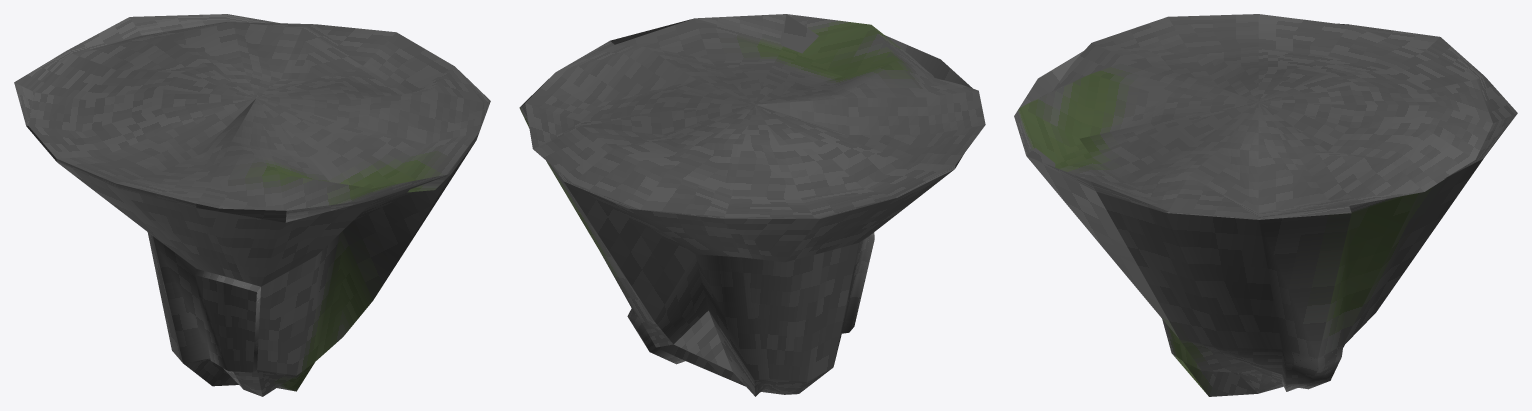
The model's file is island.obj.
3 renders of one model, left to right at view 1: azimuth 30°, elevation 25°; view 2: azimuth 150°, elevation 25°; view 3: azimuth 270°, elevation 25°, orthographic. The views are drawn at different scales.
Visible parts, largest first — view 1: Sphere.001; view 2: Sphere.001; view 3: Sphere.001.
Boxes of the visible parts, x1,y1,x2,y2 form: Sphere.001: (14,14,490,396); Sphere.001: (519,14,985,396); Sphere.001: (1014,14,1517,396).
Size of the model in its own units: 3.34 by 2.3 by 3.56.
Materials: 1 (1 with a texture image).
